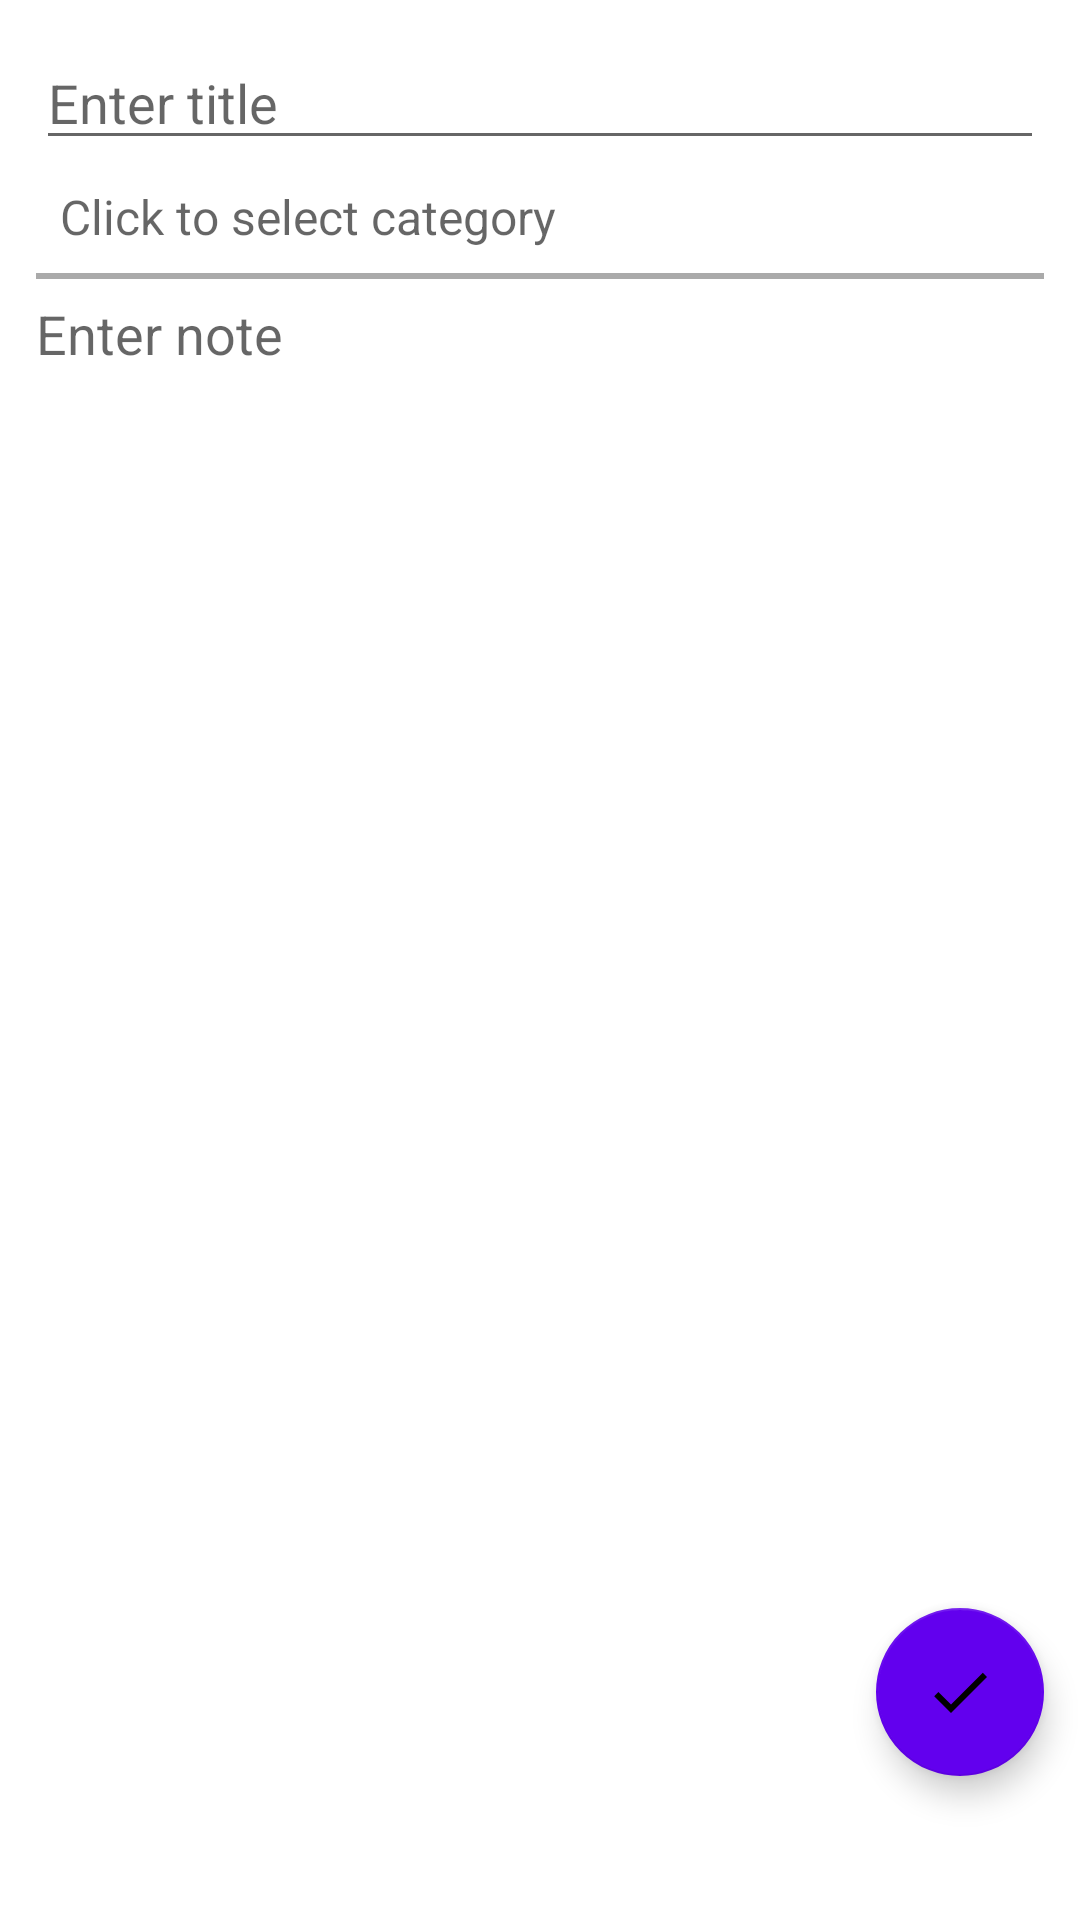

Named icons in this screenshot (1080*1920) and their bounding boxes, (x1, y1, x2, y2):
Save button: (876, 1608, 1044, 1776)
